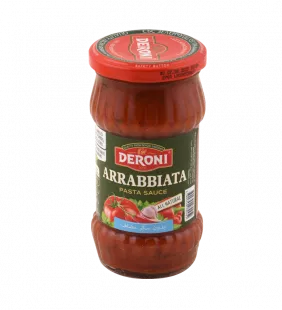DERONI: (83, 20, 212, 284)
